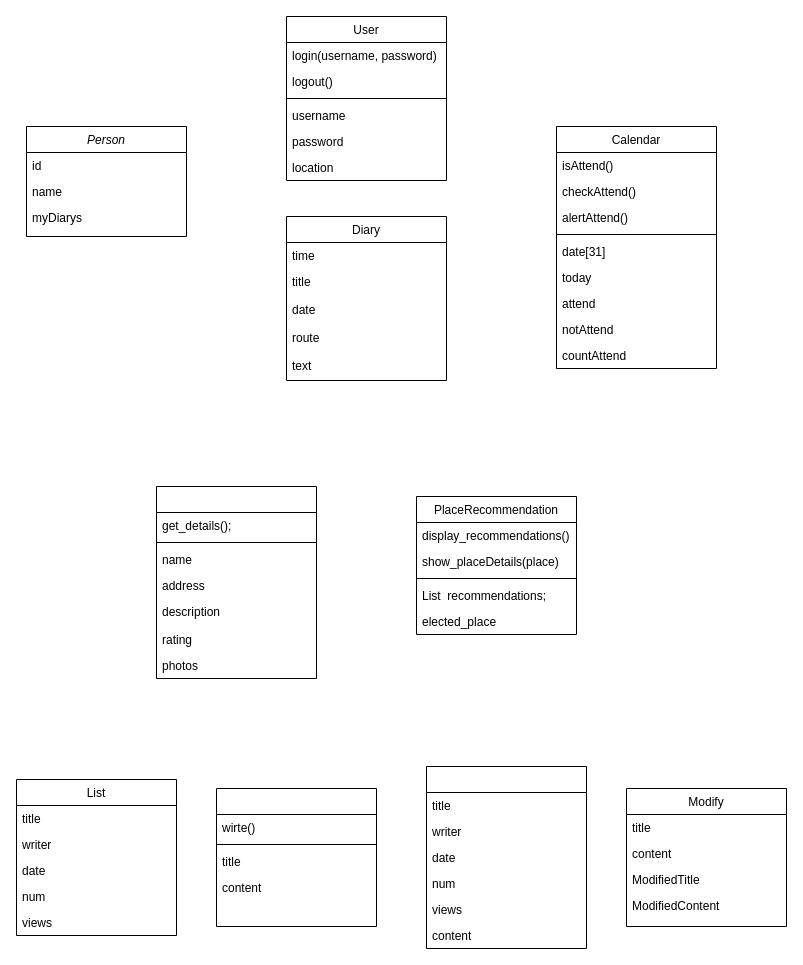
Some shapes in this 803 by 965 pixel diagram are drawn without their labels. The box of each missing label's shape, as (x1, y1, x2, y2) in pixels:
Confirm: (426, 766, 586, 948)
Place: (156, 486, 316, 678)
Writing: (216, 788, 376, 926)
